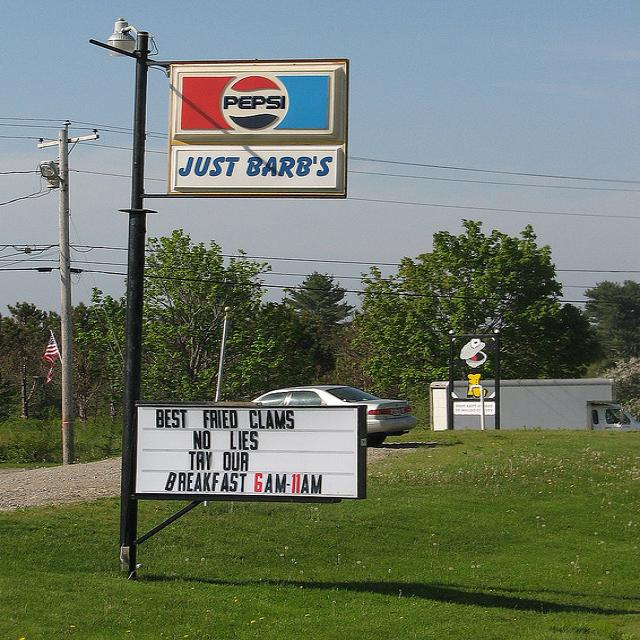Vehicle: (429, 377, 640, 432), (251, 385, 420, 449)
